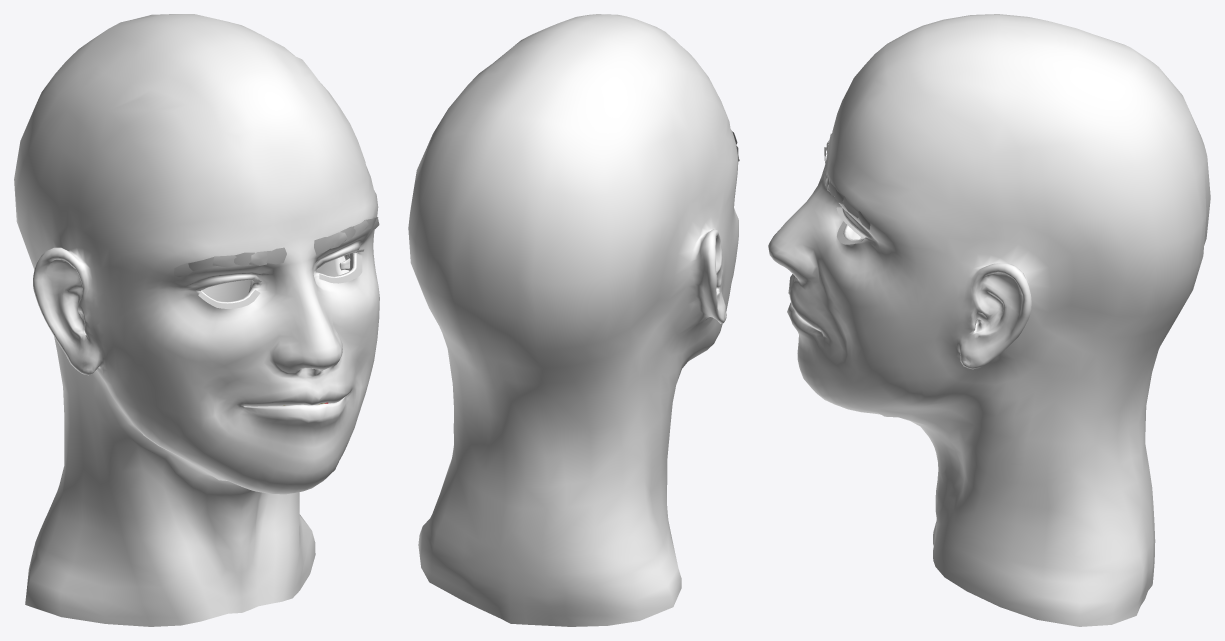
The model's file is mouthPressRight.obj.
3 renders of one model, left to right at view 1: azimuth 30°, elevation 25°; view 2: azimuth 150°, elevation 25°; view 3: azimuth 270°, elevation 25°, orthographic. The views are drawn at different scales.
Visible parts, largest first — view 1: FaceMesh_Plane.003; view 2: FaceMesh_Plane.003; view 3: FaceMesh_Plane.003.
Part boxes in pixels (x1,y1,x2,y2): FaceMesh_Plane.003: (14, 14, 379, 626); FaceMesh_Plane.003: (408, 14, 739, 626); FaceMesh_Plane.003: (768, 14, 1210, 626).
Bounding box in the file's own units: 1.54 × 2.71 × 1.94.
Materials: 5 (1 with a texture image).
